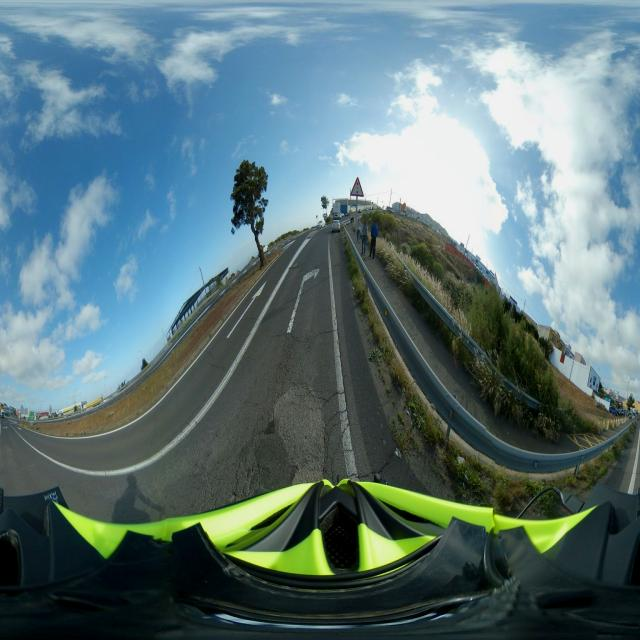car: (330, 213, 342, 234)
